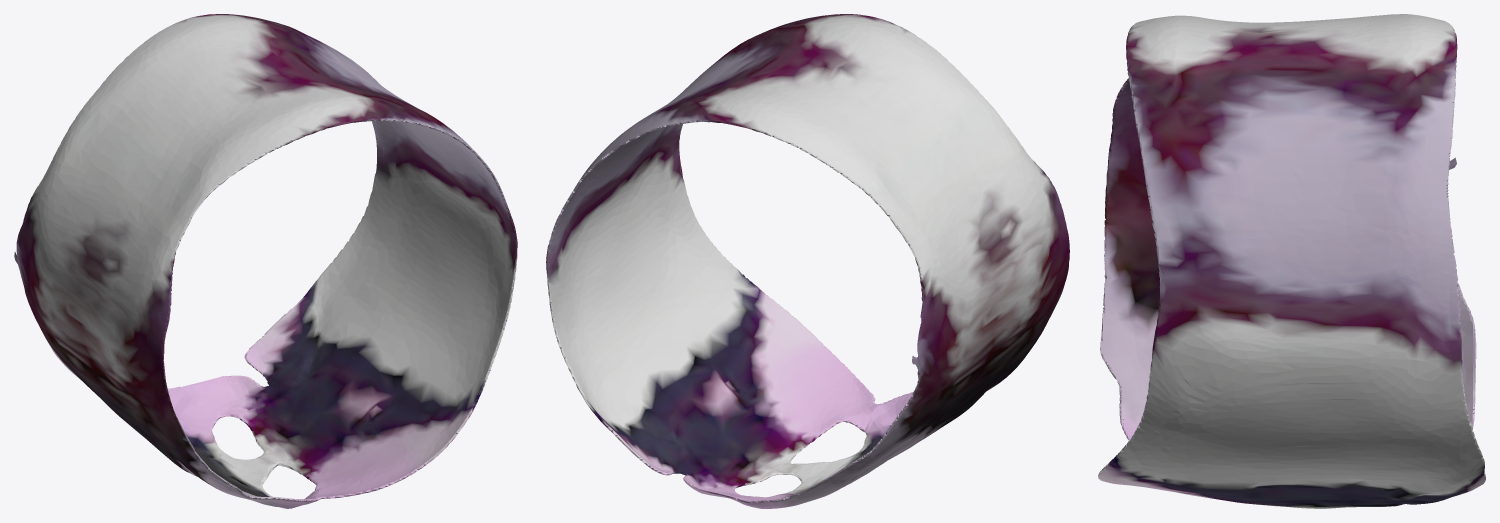
The model's file is ring_magic.glb.
3 renders of one model, left to right at view 1: azimuth 30°, elevation 25°; view 2: azimuth 150°, elevation 25°; view 3: azimuth 270°, elevation 25°, orthographic. The views are drawn at different scales.
Visible parts, largest first — view 1: geometry_0; view 2: geometry_0; view 3: geometry_0.
Part boxes in pixels (x1,y1,x2,y2): geometry_0: [14, 14, 517, 508]; geometry_0: [546, 14, 1069, 508]; geometry_0: [1098, 14, 1485, 508].
Size of the model in its own units: 0.5938 by 0.5983 by 0.4548.
